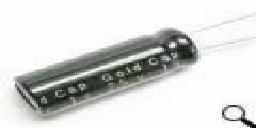Electrolytic-Capacitor: (10, 22, 200, 118)
